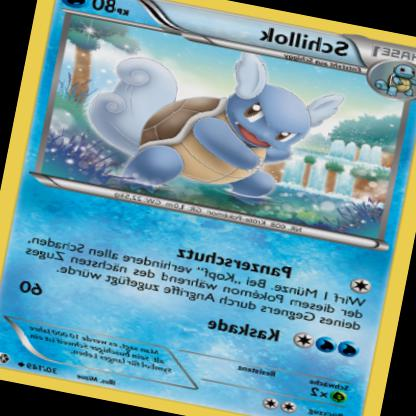Wartortle: (74, 25, 353, 218)
